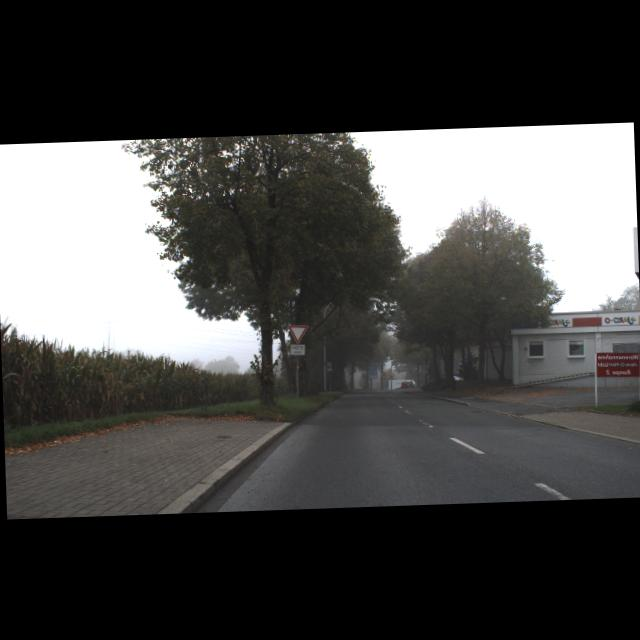other: (288, 324, 310, 344)
